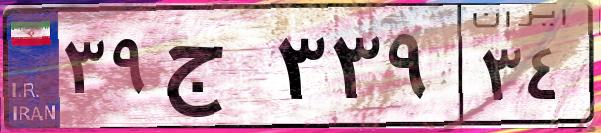3: (270, 28, 330, 110), (330, 28, 385, 110), (57, 26, 110, 100), (475, 38, 525, 113)
4: (525, 38, 570, 115)
9: (385, 28, 445, 110), (110, 28, 158, 98)
ج: (158, 20, 270, 120)
